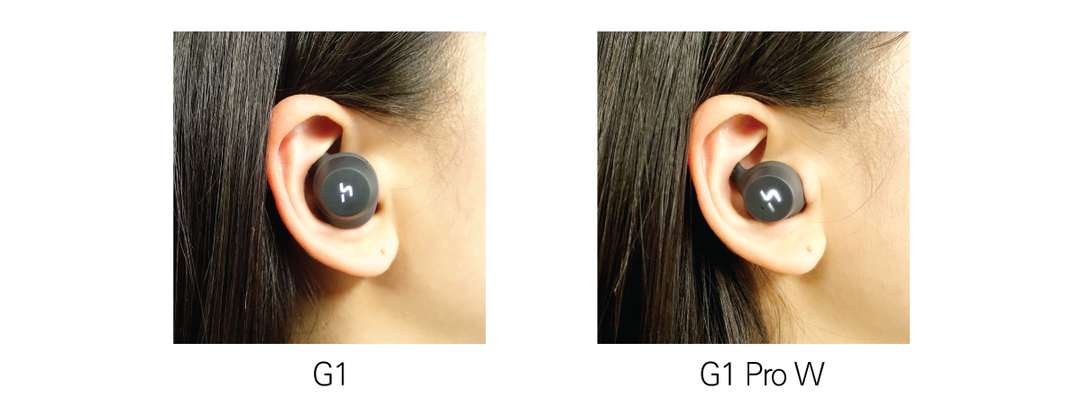earphone: (266, 94, 409, 279), (687, 94, 831, 276)
